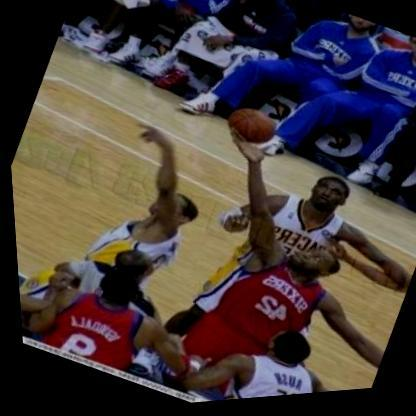basketball: (212, 96, 284, 163)
